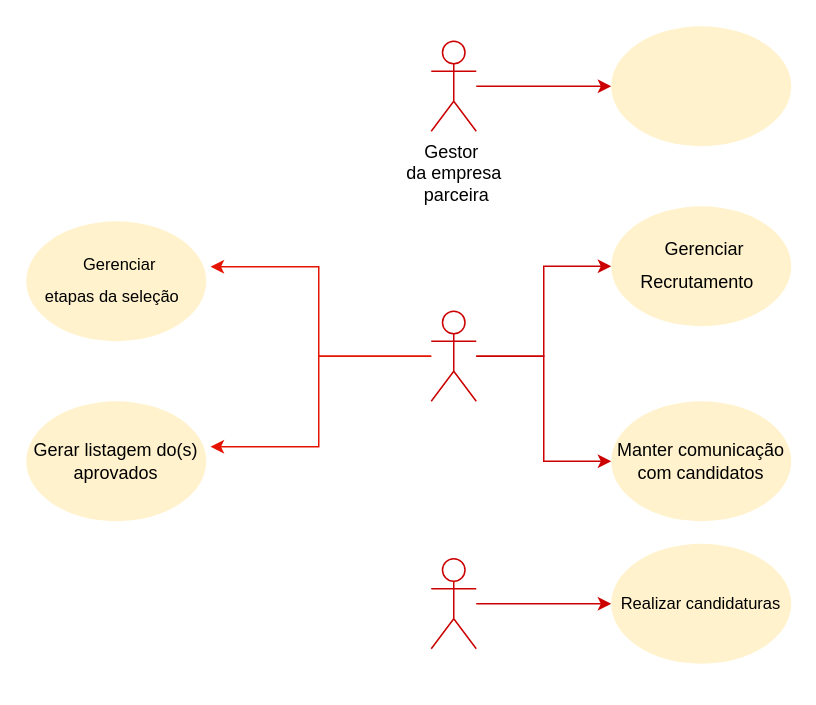
Some shapes in this 816 by 705 pixel diagram are drawn without their labels. Here are the shapes that lost their labels. From the top down, the centre of each, then its label:
At (700,86): "Gerenciar informações da(s) vaga(s)".
At (453,355): "Funcionário do RH responsável pelo recrutamento".
At (453,603): "Candidato".
